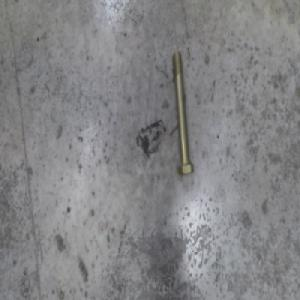Bolt: (169, 54, 194, 177)
